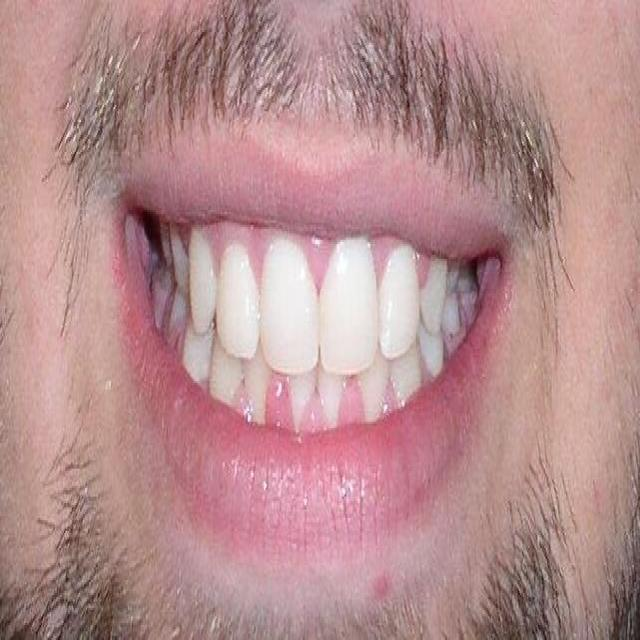tooth: (255, 240, 318, 370), (322, 234, 378, 372), (376, 248, 426, 362), (218, 246, 264, 358), (188, 229, 216, 332), (354, 355, 394, 422), (240, 355, 276, 426), (418, 261, 452, 330), (286, 364, 318, 432), (182, 319, 212, 387), (442, 291, 474, 349), (416, 330, 451, 383), (317, 374, 348, 432), (392, 349, 427, 398), (210, 353, 240, 409), (170, 227, 192, 295), (163, 285, 186, 349), (452, 268, 476, 308), (149, 270, 168, 316), (160, 222, 172, 280)
